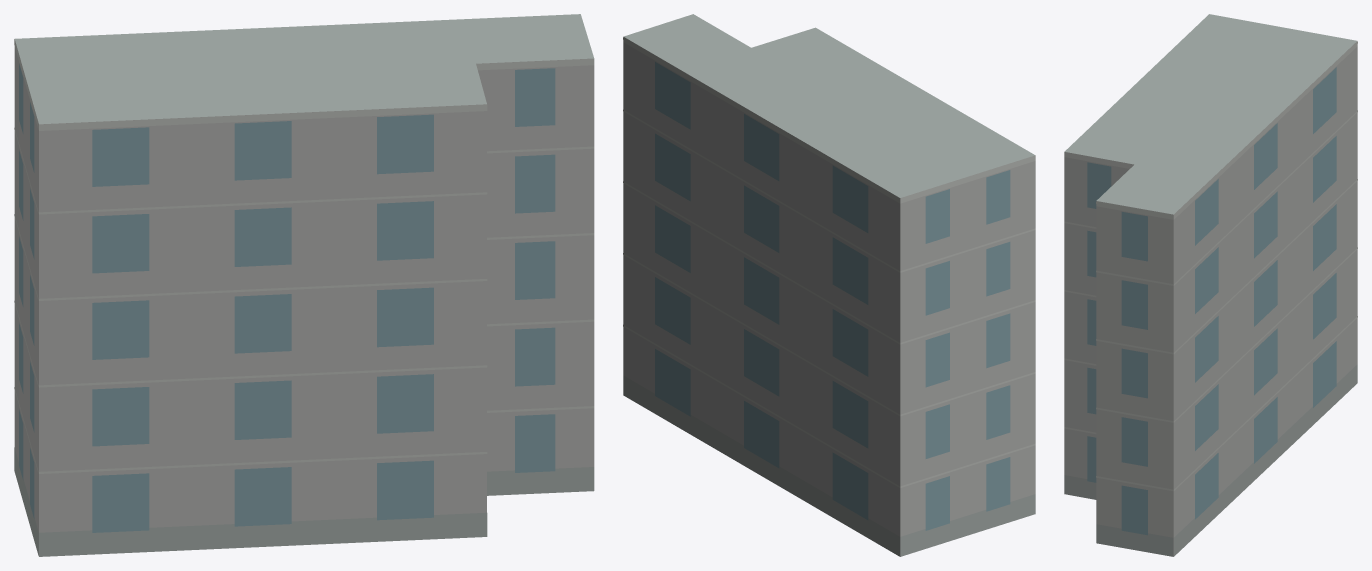
File: survey-upis-32937867.glb
3 views of the same model, side by side, from view 1: azimuth 30°, elevation 25°; view 2: azimuth 150°, elevation 25°; view 3: azimuth 270°, elevation 25° (orthographic). The views are drawn at different scales.
Parts seen in each view (by area): view 1: survey-upis-32937867.tmp; view 2: survey-upis-32937867.tmp; view 3: survey-upis-32937867.tmp.
Boxes of the visible parts, box(x1,y1,x2,y2) form: survey-upis-32937867.tmp: box(14, 14, 594, 556); survey-upis-32937867.tmp: box(623, 14, 1035, 556); survey-upis-32937867.tmp: box(1064, 14, 1357, 556).
Bounding box in the file's own units: 19.75 × 15.7 × 12.21.
